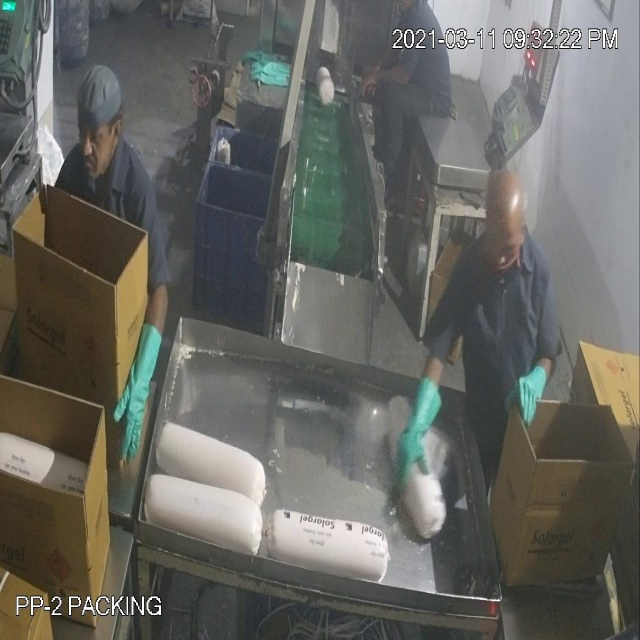Guantes: (104, 303, 163, 472), (383, 372, 444, 497), (504, 354, 549, 431)
